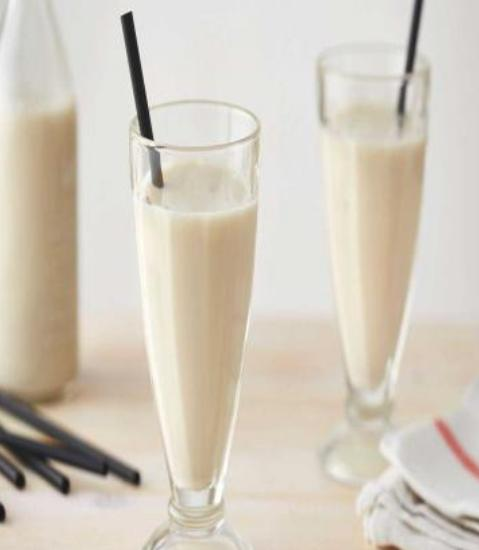produk_susu: (154, 116, 236, 539), (0, 27, 91, 386), (327, 46, 408, 428)
